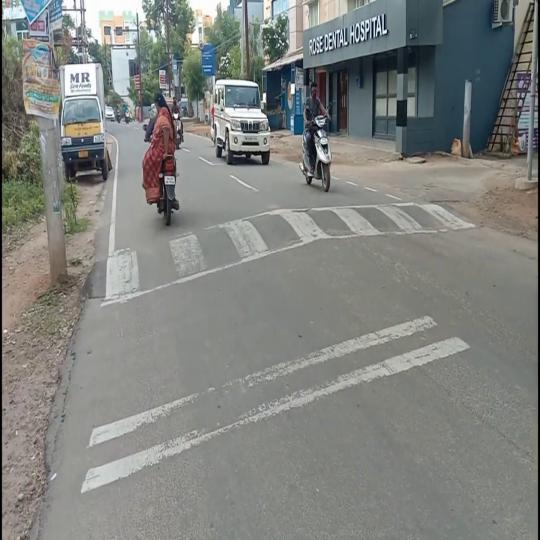Speed Bump: (208, 202, 472, 273), (90, 226, 208, 298)
